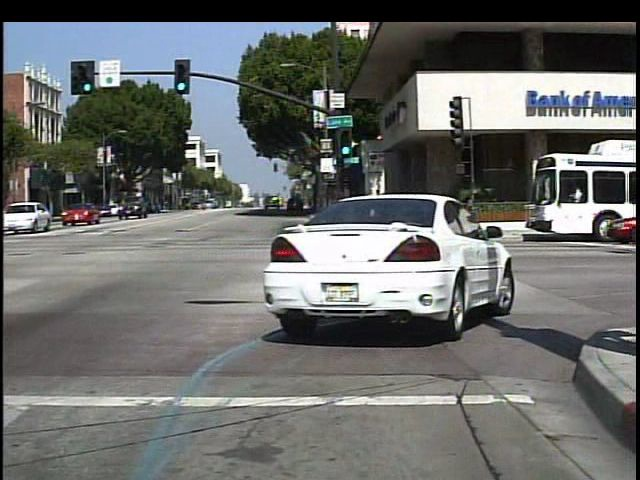person: (370, 182, 389, 223)
